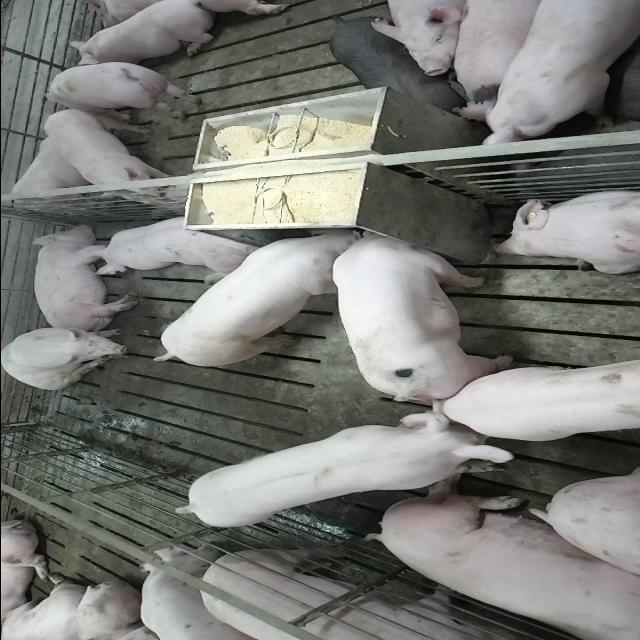Feeding: (330, 220, 512, 396), (144, 230, 360, 372)
Lateral_lying: (28, 224, 140, 334)
Sitting: (1, 326, 134, 390)
Standing: (175, 408, 519, 530), (194, 546, 640, 640), (456, 2, 640, 149), (444, 352, 640, 438), (324, 17, 458, 115), (42, 106, 170, 198), (444, 0, 552, 108), (131, 546, 248, 640), (369, 0, 468, 74)
Sternal_lying: (489, 187, 640, 275), (78, 210, 258, 274), (66, 3, 214, 64), (5, 130, 94, 212)
